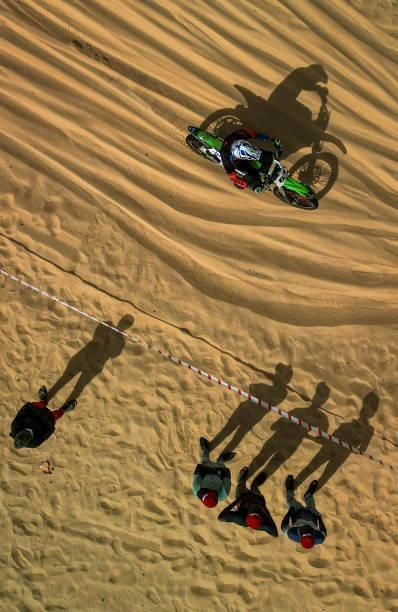Motorcycle: (183, 118, 328, 213)
